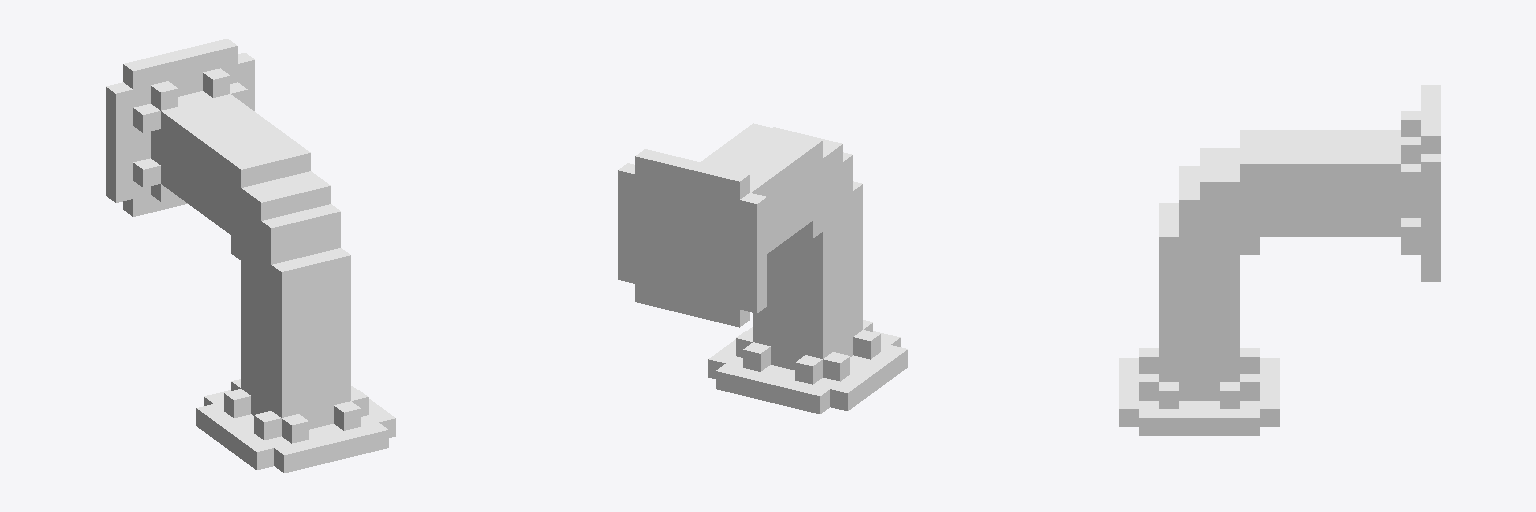
The model's file is TubeSmall.obj.
3 renders of one model, left to right at view 1: azimuth 30°, elevation 25°; view 2: azimuth 150°, elevation 25°; view 3: azimuth 270°, elevation 25°, orthographic.
Size of the model in its own units: 8 by 16 by 16.